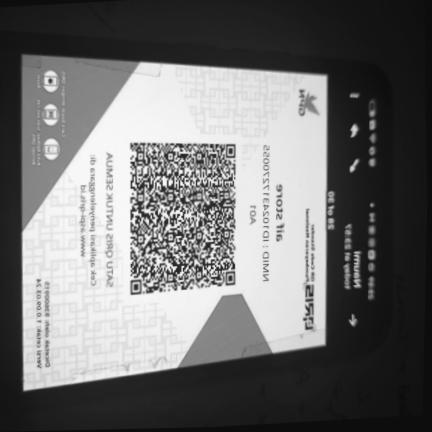Cara Pakai QRIS: (25, 61, 70, 171)
Cek Aplikasi Penyelenggara: (74, 148, 100, 293)
Dicetak Oleh: (44, 278, 53, 371)
Logo GPN: (295, 86, 322, 122)
Logo dan deskripsi QRIS: (298, 201, 321, 339)
Nama Merchant: (274, 179, 287, 248)
National Merchant ID: (260, 134, 273, 286)
QR Code: (125, 136, 240, 299)
Slogan: (101, 147, 118, 292)
Terminal ID: (248, 199, 258, 232)
Versi Cetak: (34, 274, 43, 372)
